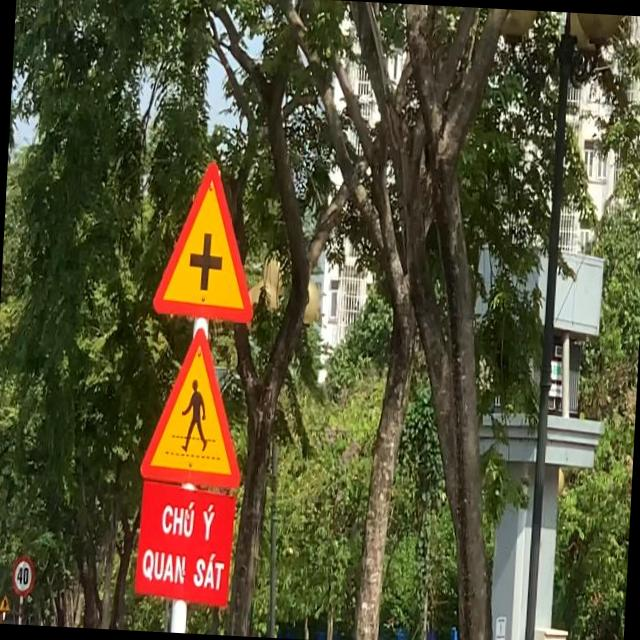P-127: (12, 553, 34, 596)
W-205a: (149, 158, 261, 327)
W-224: (139, 322, 249, 490)
